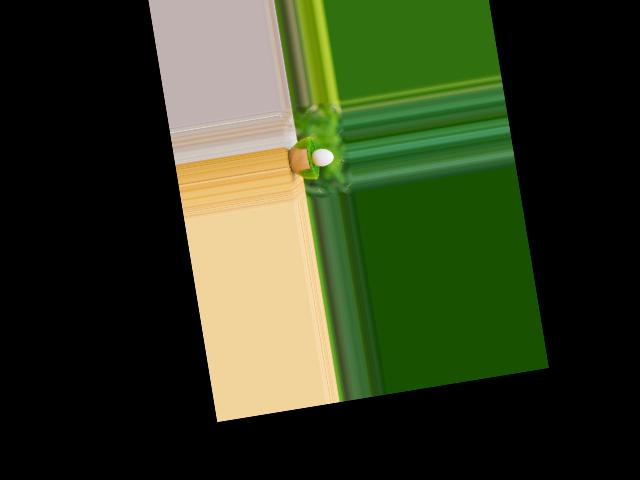egg: (309, 146, 334, 167)
